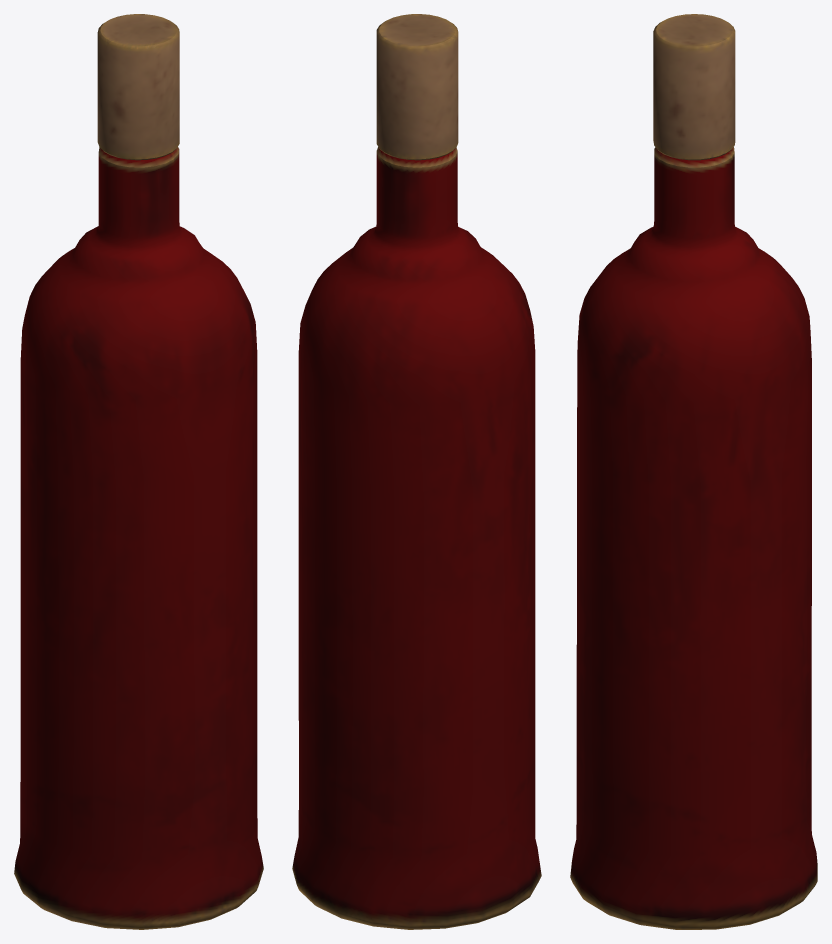
Rendered from SM_Bottle2.FBX.
The picture shows the model from 3 angles, left to right: view 1: azimuth 30°, elevation 25°; view 2: azimuth 150°, elevation 25°; view 3: azimuth 270°, elevation 25°; orthographic projection.
Parts seen in each view (by area): view 1: SM_Bottle2; view 2: SM_Bottle2; view 3: SM_Bottle2.
Boxes of the visible parts, box(x1,y1,x2,y2) form: SM_Bottle2: box(14, 14, 263, 929); SM_Bottle2: box(292, 14, 541, 929); SM_Bottle2: box(570, 14, 817, 929).
Size of what is drawn, in the model's own units: 11.13 by 11.12 by 42.23.
